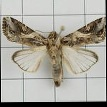Spodoptera litura: (1, 15, 106, 87)
